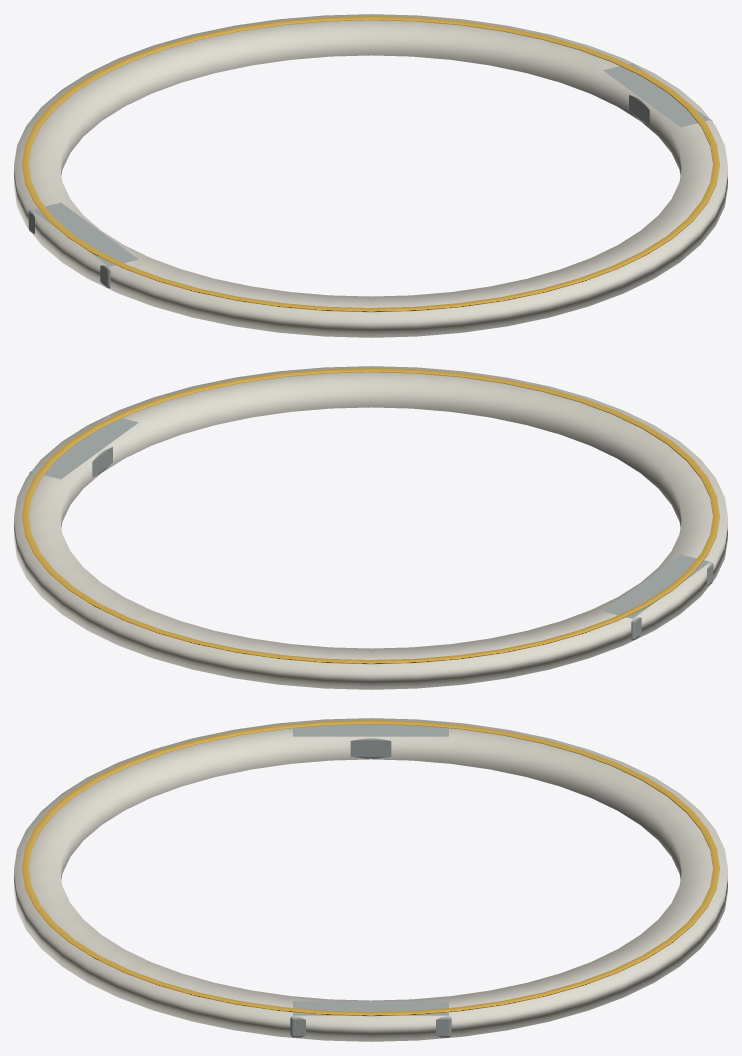
File: automated-parking-and-vehicle-retrieval-automated-park-c32413ad__30343.glb
The picture shows the model from 3 angles, top to bottom: view 1: azimuth 30°, elevation 25°; view 2: azimuth 150°, elevation 25°; view 3: azimuth 270°, elevation 25°; orthographic projection.
Visible parts, largest first — view 1: automated-parking-and-vehicle-retrieval-transfer-platform; view 2: automated-parking-and-vehicle-retrieval-transfer-platform; view 3: automated-parking-and-vehicle-retrieval-transfer-platform.
Boxes of the visible parts, x1,y1,x2,y2 form: automated-parking-and-vehicle-retrieval-transfer-platform: (14, 14, 727, 337); automated-parking-and-vehicle-retrieval-transfer-platform: (14, 366, 727, 689); automated-parking-and-vehicle-retrieval-transfer-platform: (14, 718, 727, 1041).
Bounding box in the file's own units: 5.3 × 0.1929 × 5.3.
